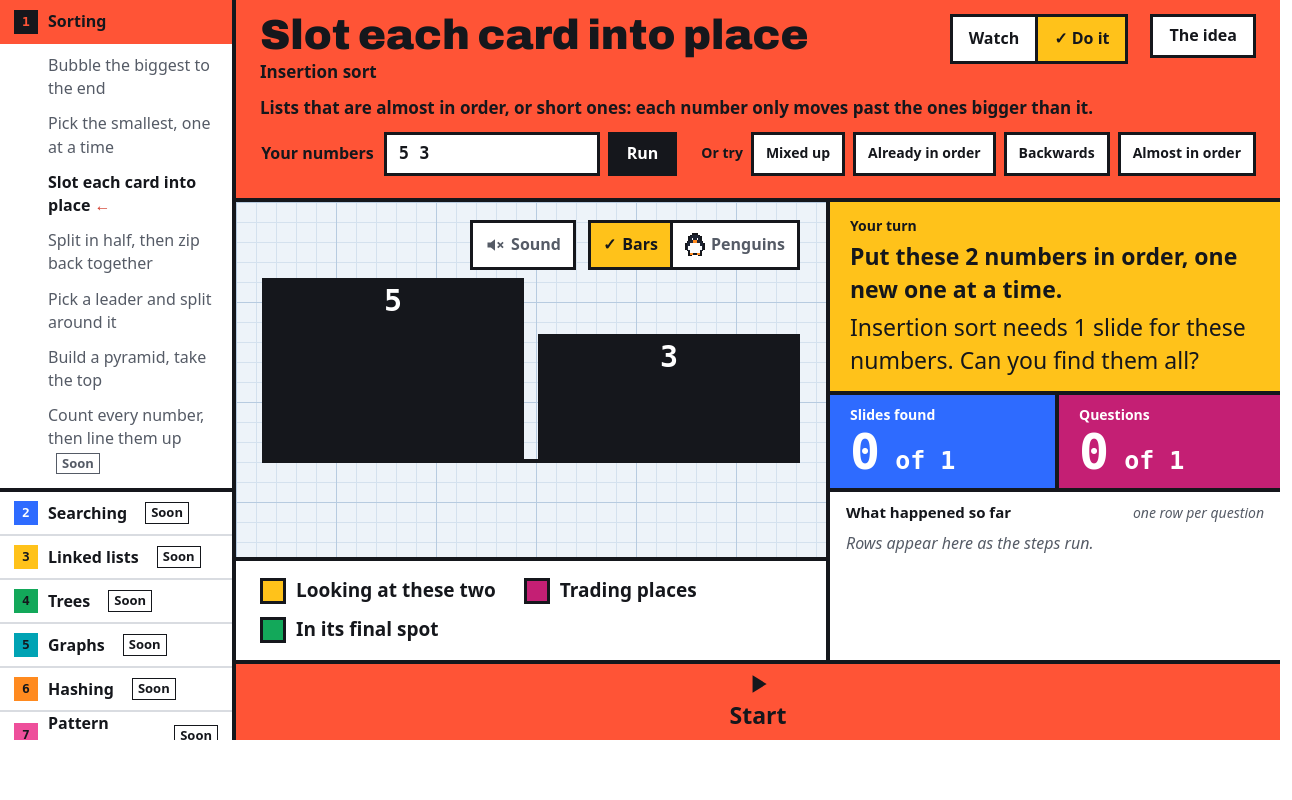
insertion sort: Do it › Explorer: the help ladder, then Show me makes the move
The image size is (1292, 800).
Click the button "Start" at [758, 702], box [236,664,1280,740]
Wait 4000 ms
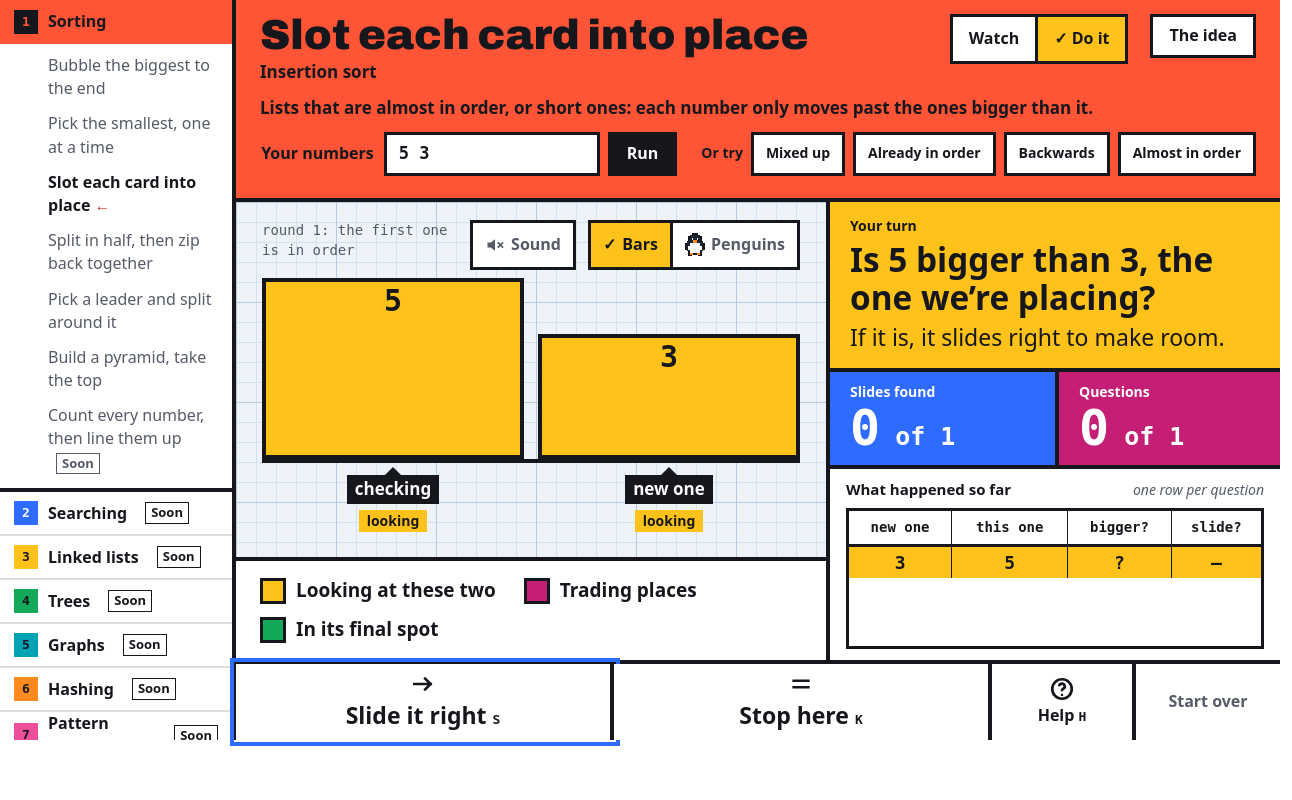
Click the button "Help H" at [1064, 702], box [992,664,1136,740]
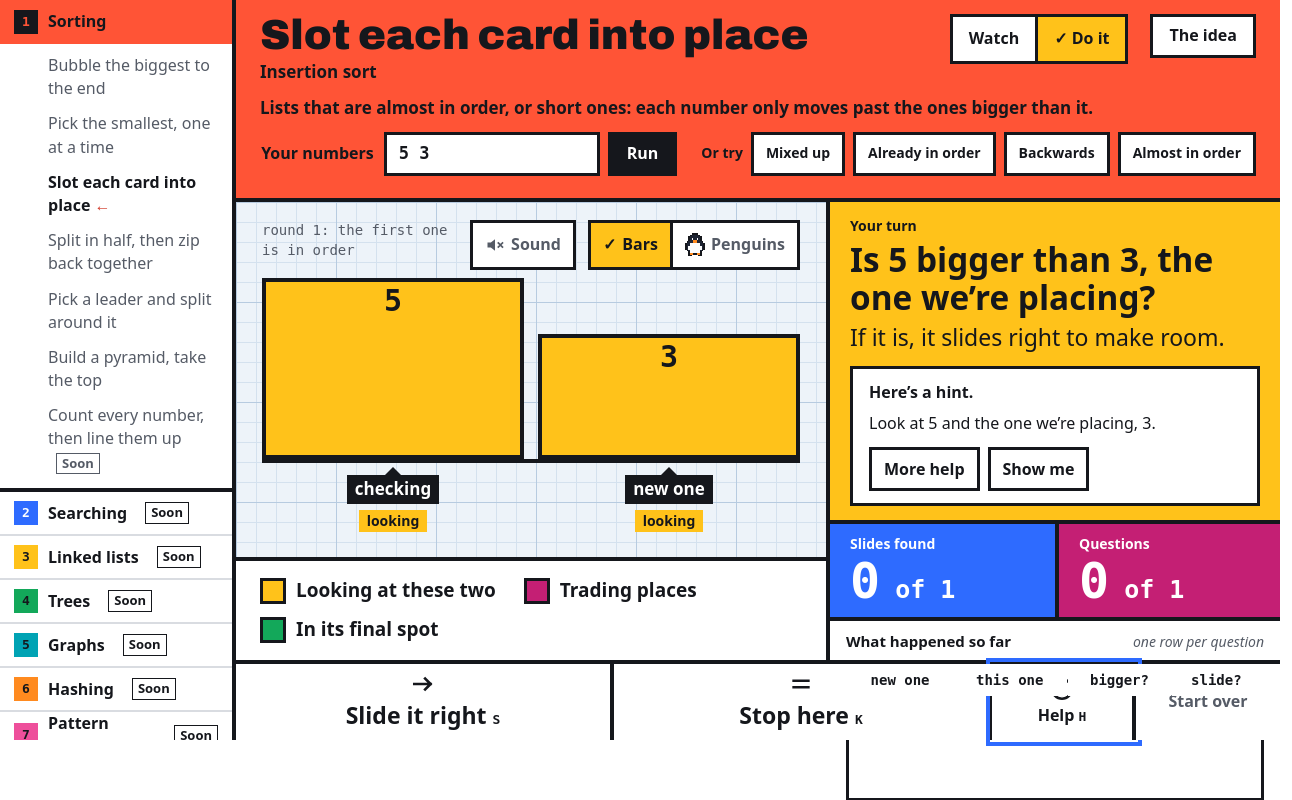
Click the button "More help" at [924, 469], box [869,447,980,491]
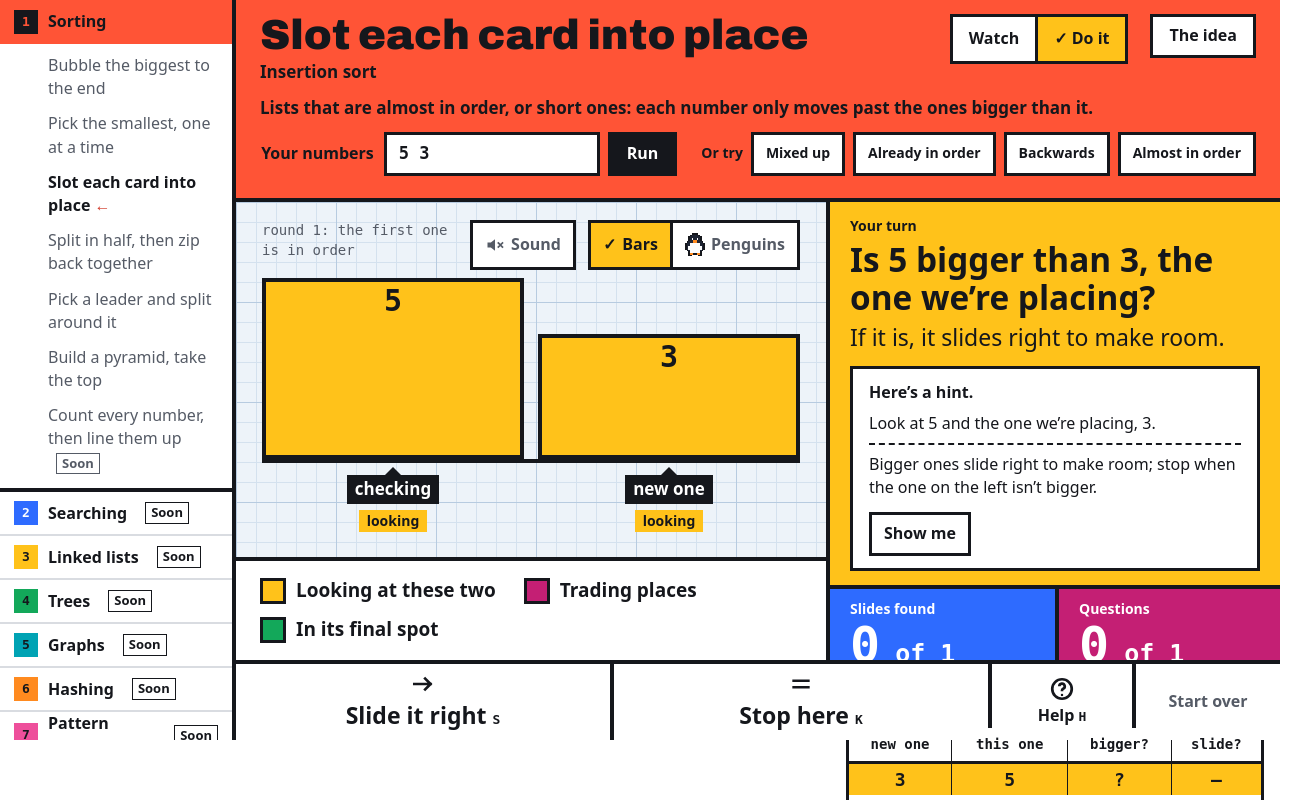
Click the button "Show me" at [920, 534], box [869,512,971,556]
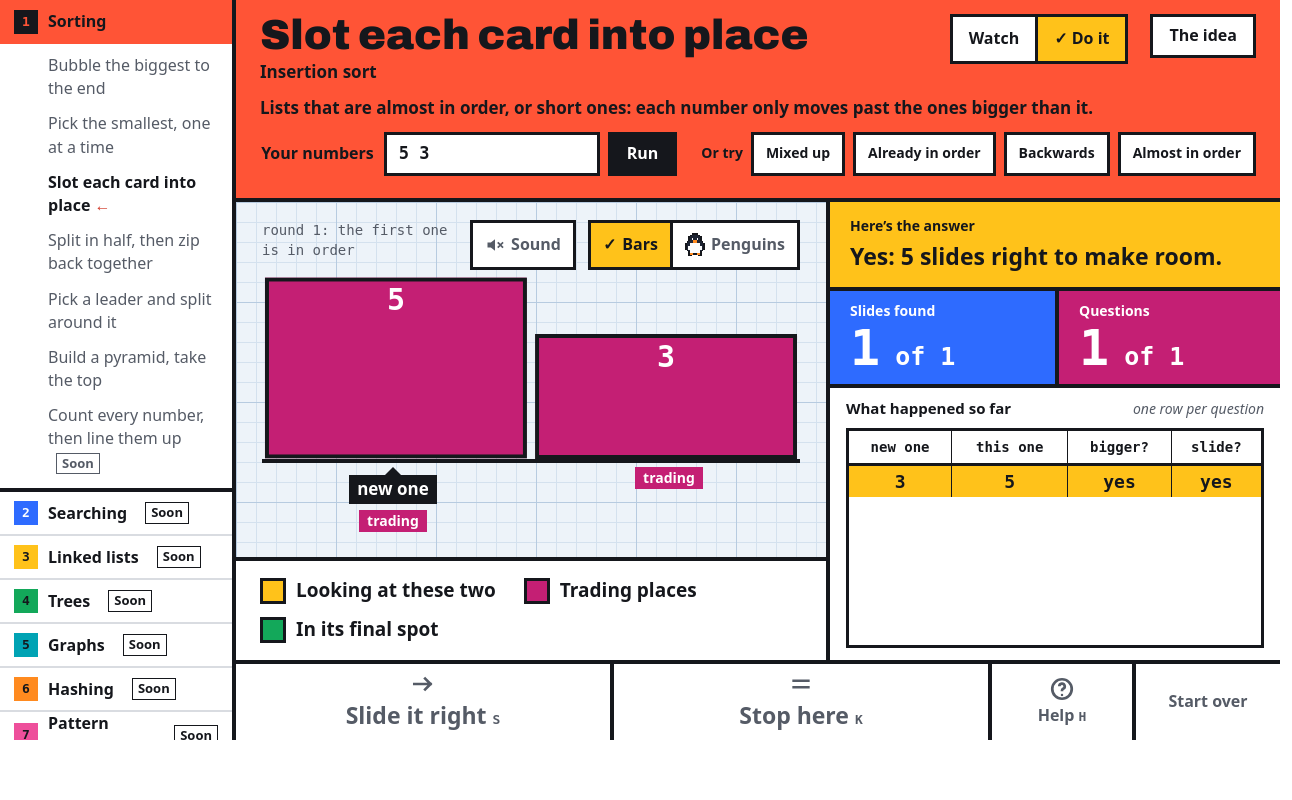
expect the element with class "do-it-panel" shows "Here’s the answer": met, box [850,216,975,235]
expect the element with class "do-it-panel" shows "Yes: 5 slides right to make room.": met, box [850,240,1222,272]
